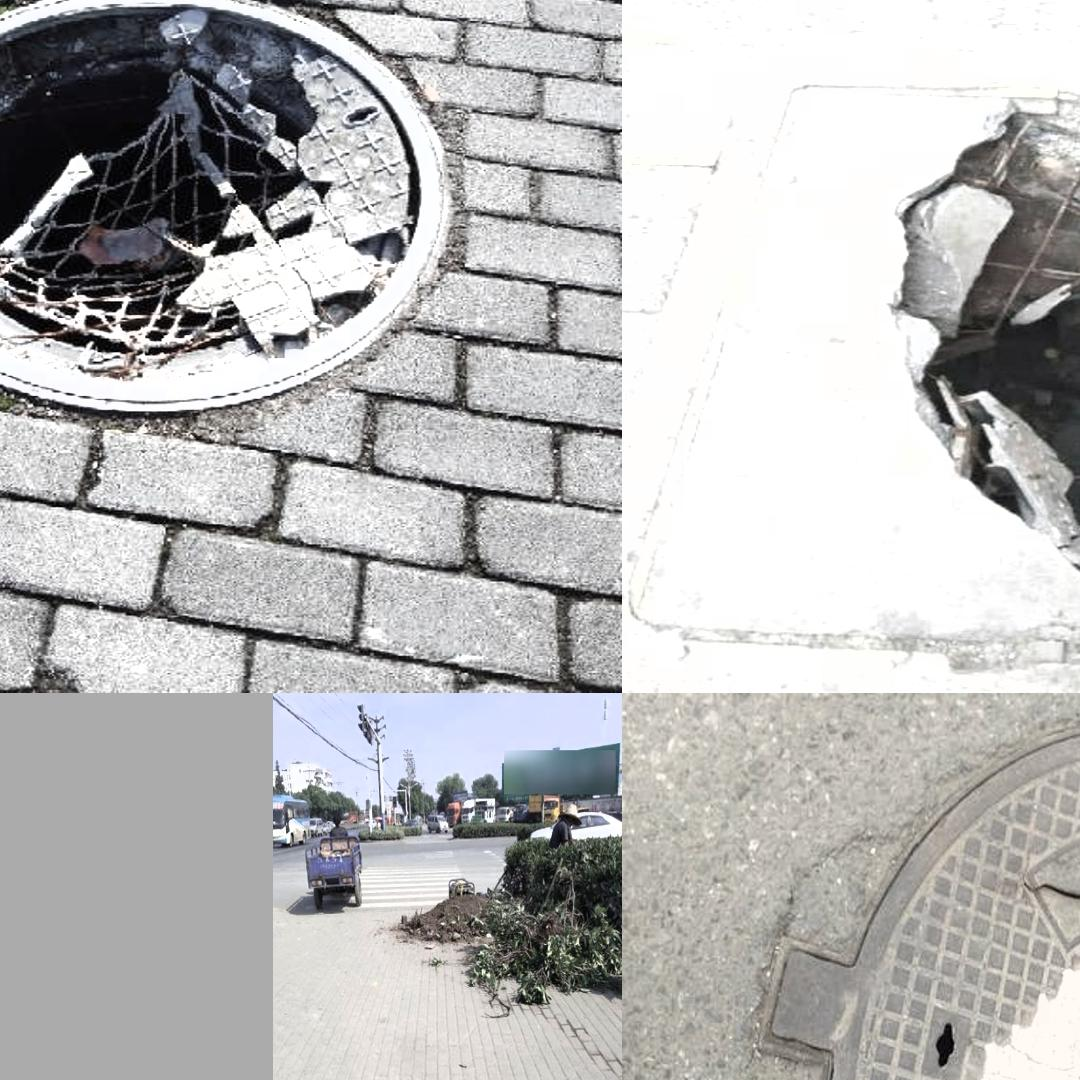broke: (661, 60, 1080, 655), (0, 0, 485, 445), (809, 706, 1080, 1080)
